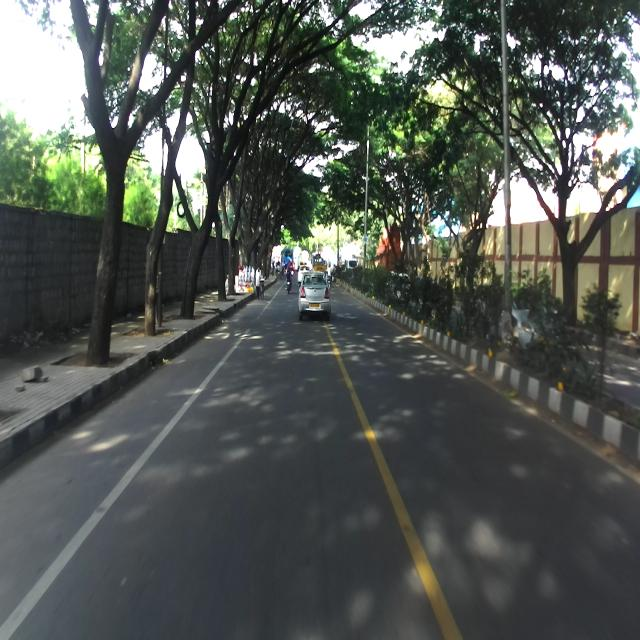car ahead at: (298, 270, 331, 320)
tree ahead at: (82, 80, 134, 362), (145, 131, 178, 335), (185, 176, 218, 323)
